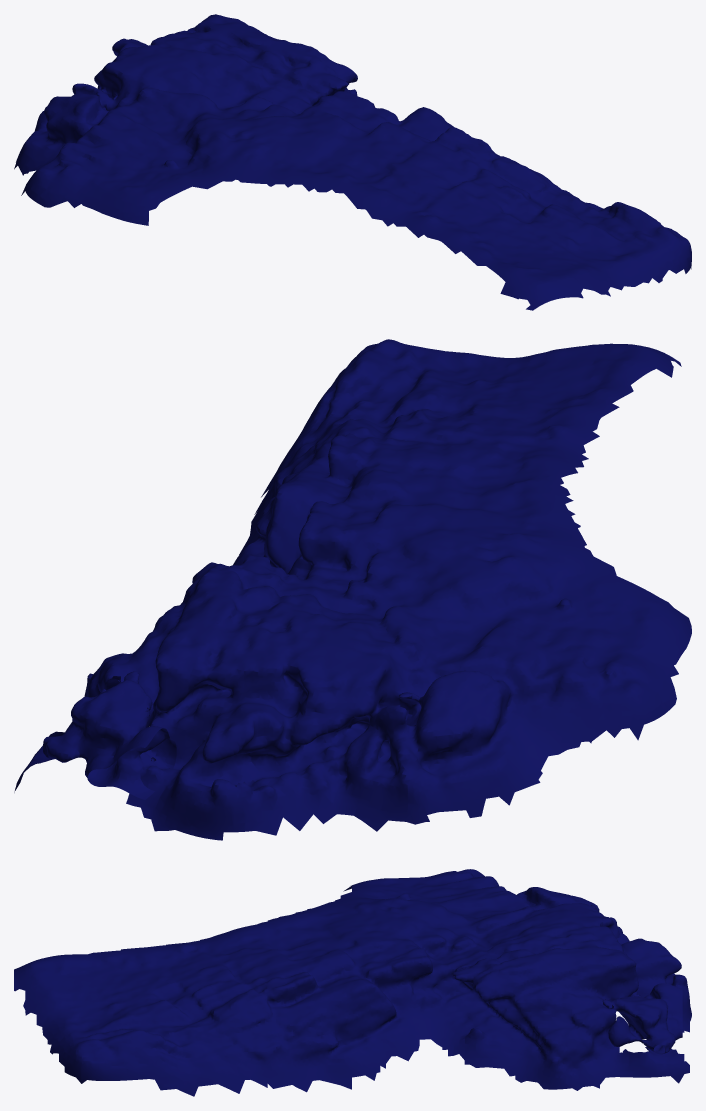
File: test rock.fbx
3 views of the same model, one above another, from view 1: azimuth 30°, elevation 25°; view 2: azimuth 150°, elevation 25°; view 3: azimuth 270°, elevation 25° (orthographic). The views are drawn at different scales.
Visible parts, largest first — view 1: Mesh[Cape_Elizabeth_Rock_2_laz]__level_8__part; view 2: Mesh[Cape_Elizabeth_Rock_2_laz]__level_8__part; view 3: Mesh[Cape_Elizabeth_Rock_2_laz]__level_8__part.
Part boxes in pixels (bbox=[...]): Mesh[Cape_Elizabeth_Rock_2_laz]__level_8__part: bbox=[14, 14, 691, 310]; Mesh[Cape_Elizabeth_Rock_2_laz]__level_8__part: bbox=[14, 339, 691, 840]; Mesh[Cape_Elizabeth_Rock_2_laz]__level_8__part: bbox=[14, 869, 691, 1096].
Bounding box in the file's own units: 58.91 × 14.15 × 89.02.
